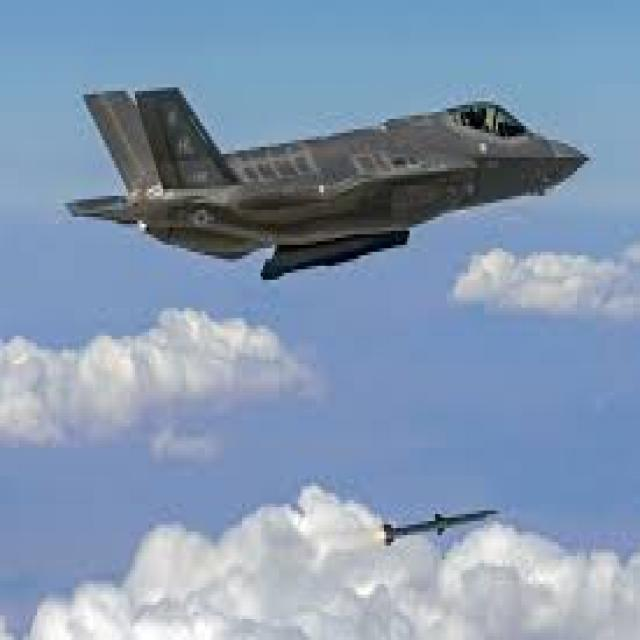missile: (380, 503, 499, 550)
